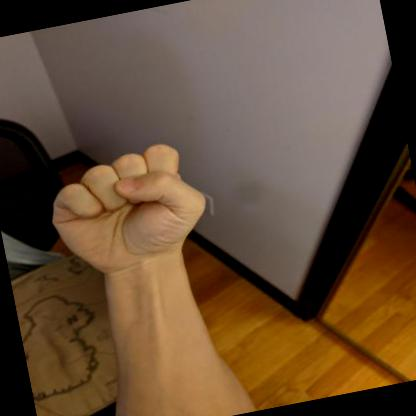S: (51, 143, 206, 275)
